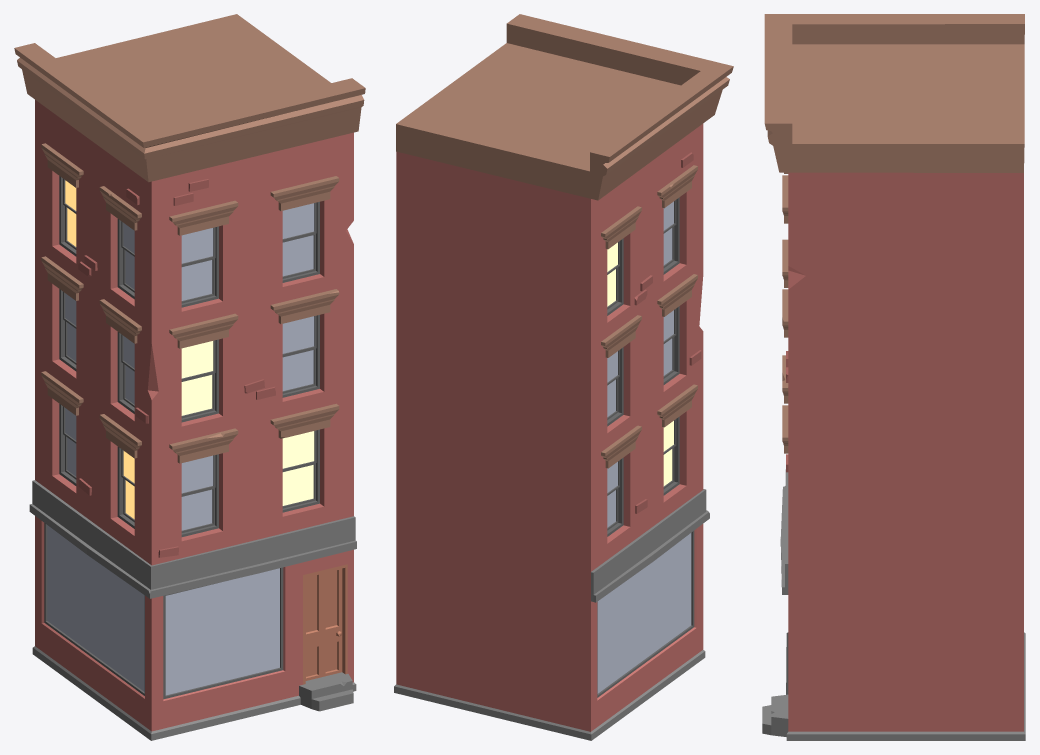
File: building_05.glb
3 renders of one model, left to right at view 1: azimuth 30°, elevation 25°; view 2: azimuth 150°, elevation 25°; view 3: azimuth 270°, elevation 25°, orthographic. The views are drawn at different scales.
Visible parts, largest first — view 1: red_corner; view 2: red_corner; view 3: red_corner.
Boxes of the visible parts, x1=… form: red_corner: x1=14, y1=14, x2=365, y2=740; red_corner: x1=394, y1=14, x2=733, y2=740; red_corner: x1=762, y1=14, x2=1025, y2=740.
Size of the model in its own units: 1.33 by 3.47 by 1.34.
